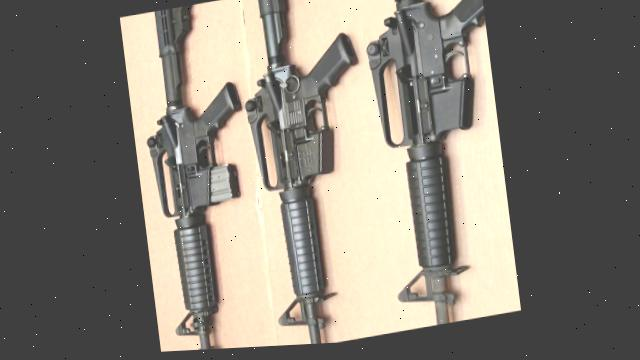rifle: (351, 0, 519, 338), (232, 0, 383, 351), (129, 0, 271, 355)
